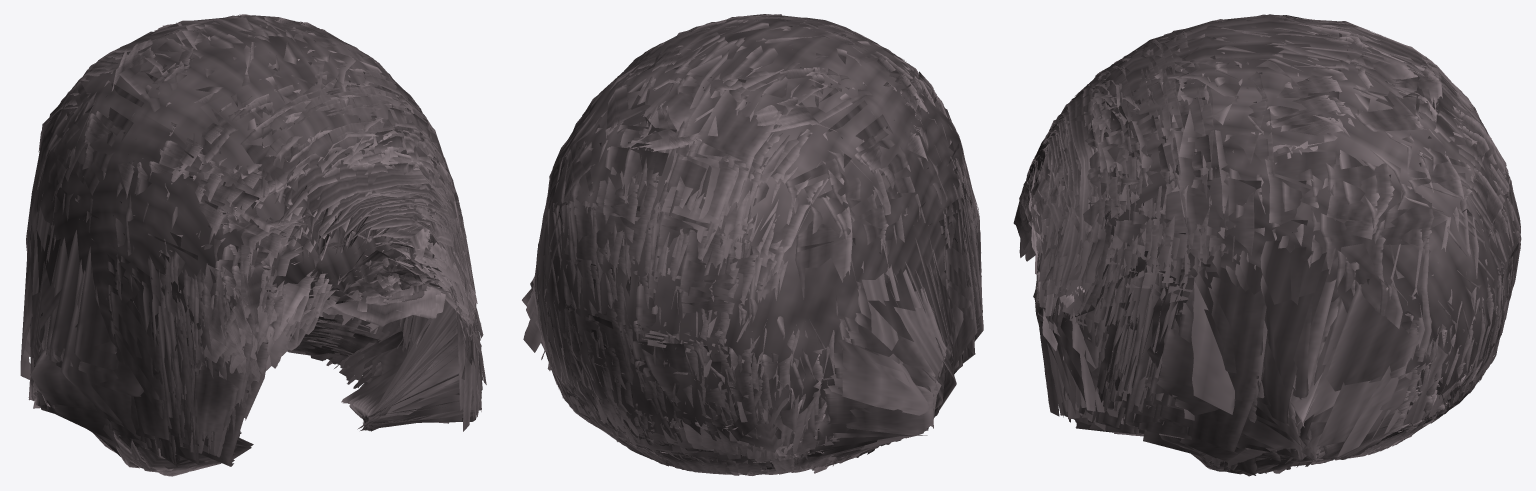
The model's file is hair_short02.glb.
3 renders of one model, left to right at view 1: azimuth 30°, elevation 25°; view 2: azimuth 150°, elevation 25°; view 3: azimuth 270°, elevation 25°, orthographic.
Parts seen in each view (by area): view 1: hair_short02; view 2: hair_short02; view 3: hair_short02.
Boxes of the visible parts, x1,y1,x2,y2 form: hair_short02: (20,14,486,476); hair_short02: (522,14,983,475); hair_short02: (1013,14,1521,476).
Size of the model in its own units: 0.1867 by 0.1562 by 0.1907.
Materials: 1 (1 with a texture image).
